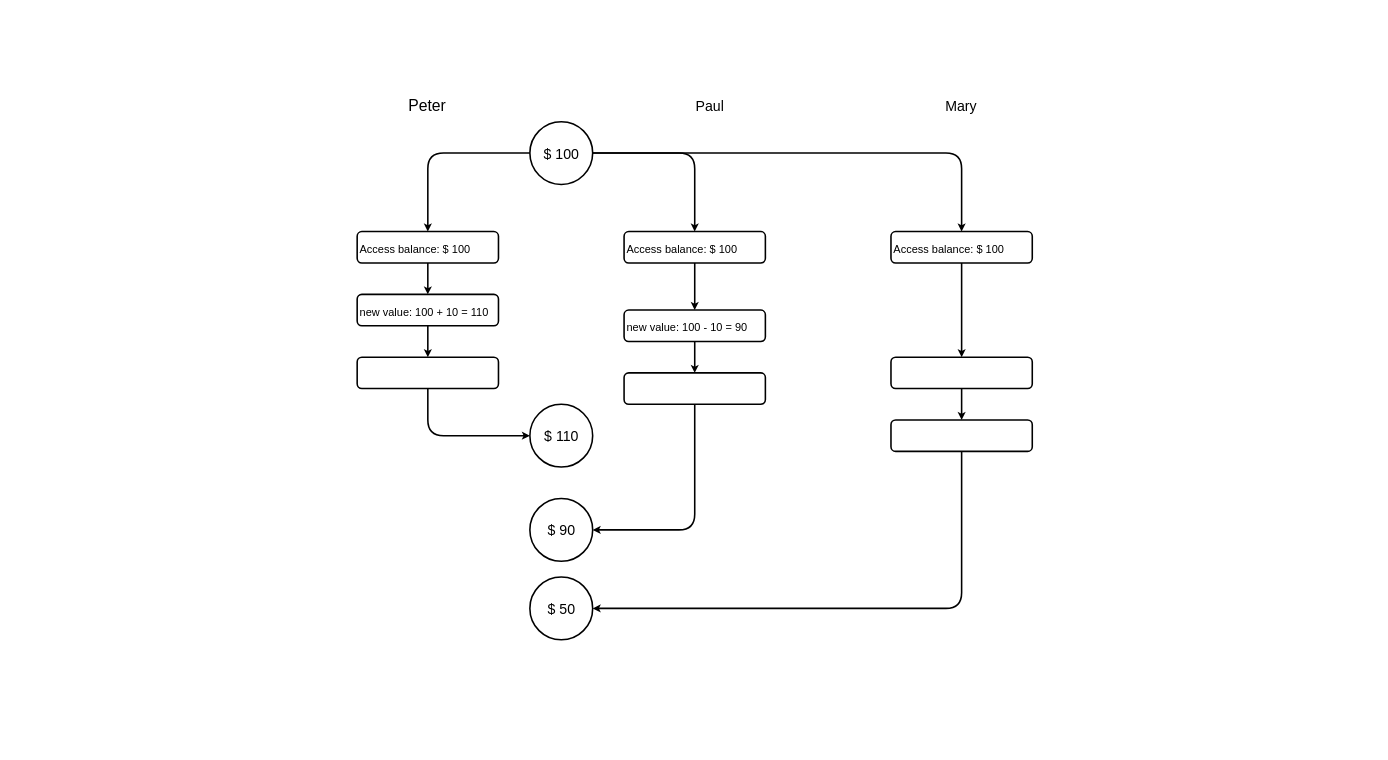
The diagram is 1388 pixels wide and 760 high, and some of its shapes have lost their labels. The box of each missing label's shape, as (x1, y1, x2, y2) in pixels:
new value: 100 - (100 / 2) = 50: (889, 356, 1032, 389)
set! balance to 110: (356, 356, 498, 389)
set! balance to 50: (889, 418, 1032, 451)
set! balance to 90: (623, 371, 765, 404)
